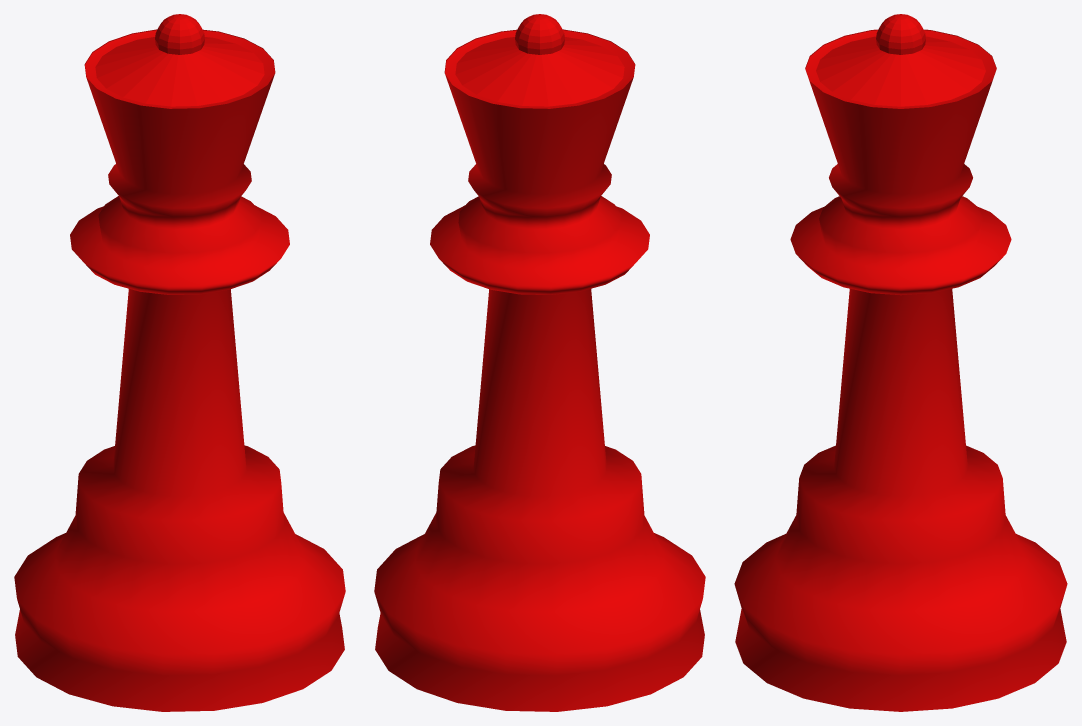
The model's file is SM_Queen.fbx.
The picture shows the model from 3 angles, left to right: view 1: azimuth 30°, elevation 25°; view 2: azimuth 150°, elevation 25°; view 3: azimuth 270°, elevation 25°; orthographic projection.
Parts seen in each view (by area): view 1: SM_Queen; view 2: SM_Queen; view 3: SM_Queen.
Part boxes in pixels (x1=…): SM_Queen: x1=14, y1=14, x2=345, y2=711; SM_Queen: x1=374, y1=14, x2=705, y2=711; SM_Queen: x1=734, y1=14, x2=1067, y2=711.
Bounding box in the file's own units: 1.62 × 3.35 × 1.62.
